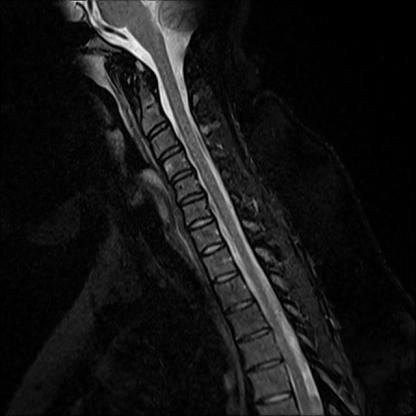Annular Disc Relaxationrotation: (177, 192, 208, 206), (167, 169, 197, 183)
